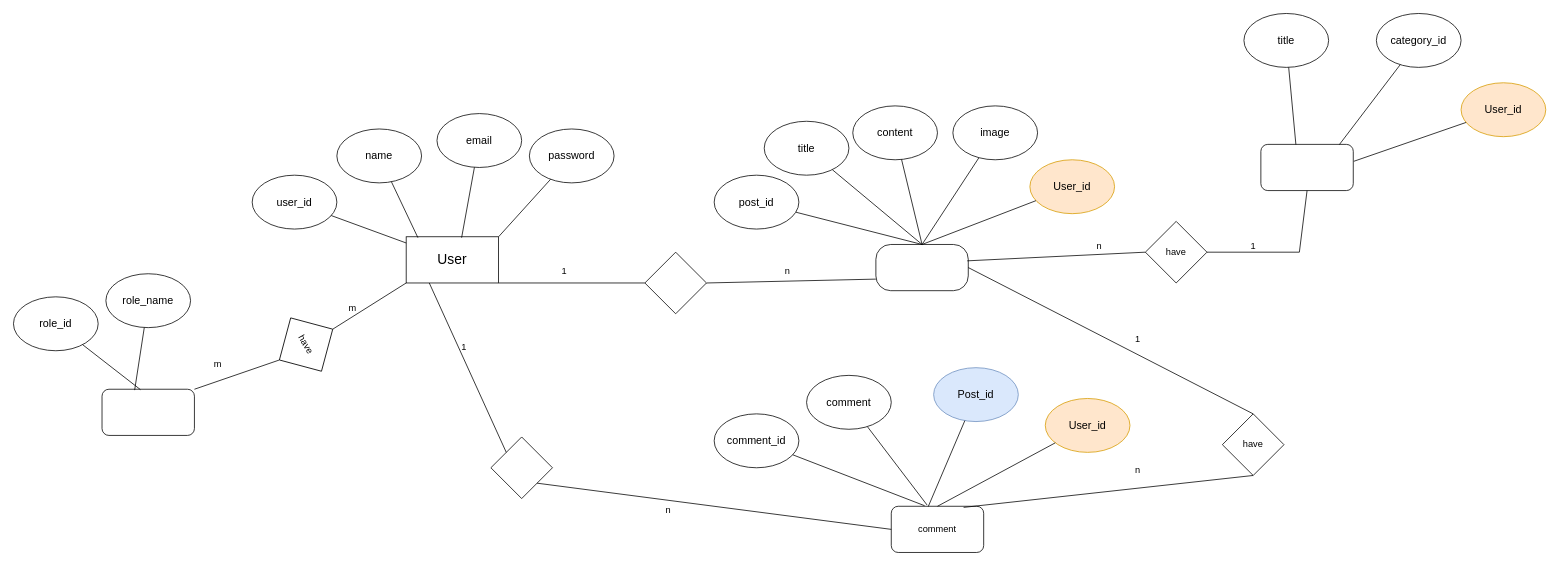
The diagram is 1559 pixels wide and 566 high, and some of its shapes have lost their labels. The shapes that lost their labels are listed below. From the top down, each one's centre as x and y in pixels, then its label:
At (1306,167): "category".
At (675,282): "create".
At (921,267): "Post".
At (147,411): "role".
At (521,467): "do".
